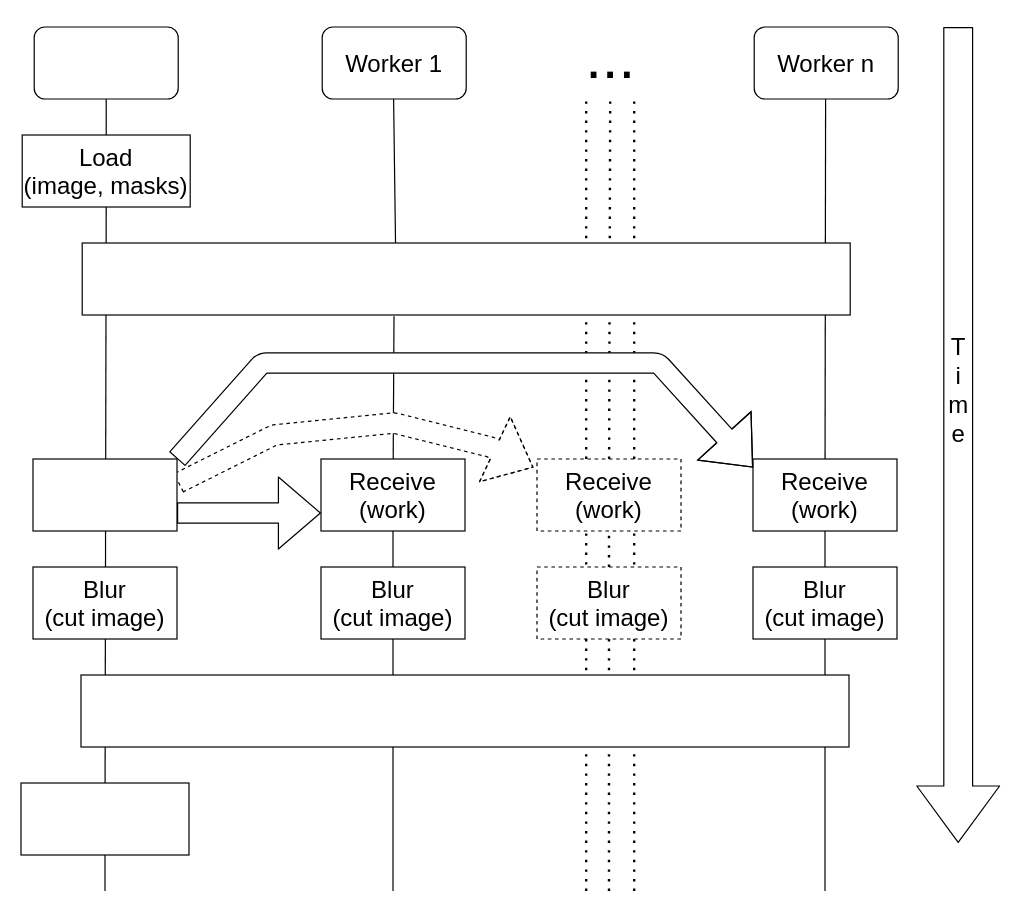
The diagram is 1021 pixels wide and 913 high, and some of its shapes have lost their labels. Here are the shapes that lost their labels. From the top down, the centre of each, then its label:
[105,62]: Host
[465,278]: Broadcast (image, masks, neighbourhood size)
[104,494]: Send (works)
[464,710]: Gatherv (result image)
[104,818]: Write (result image)
